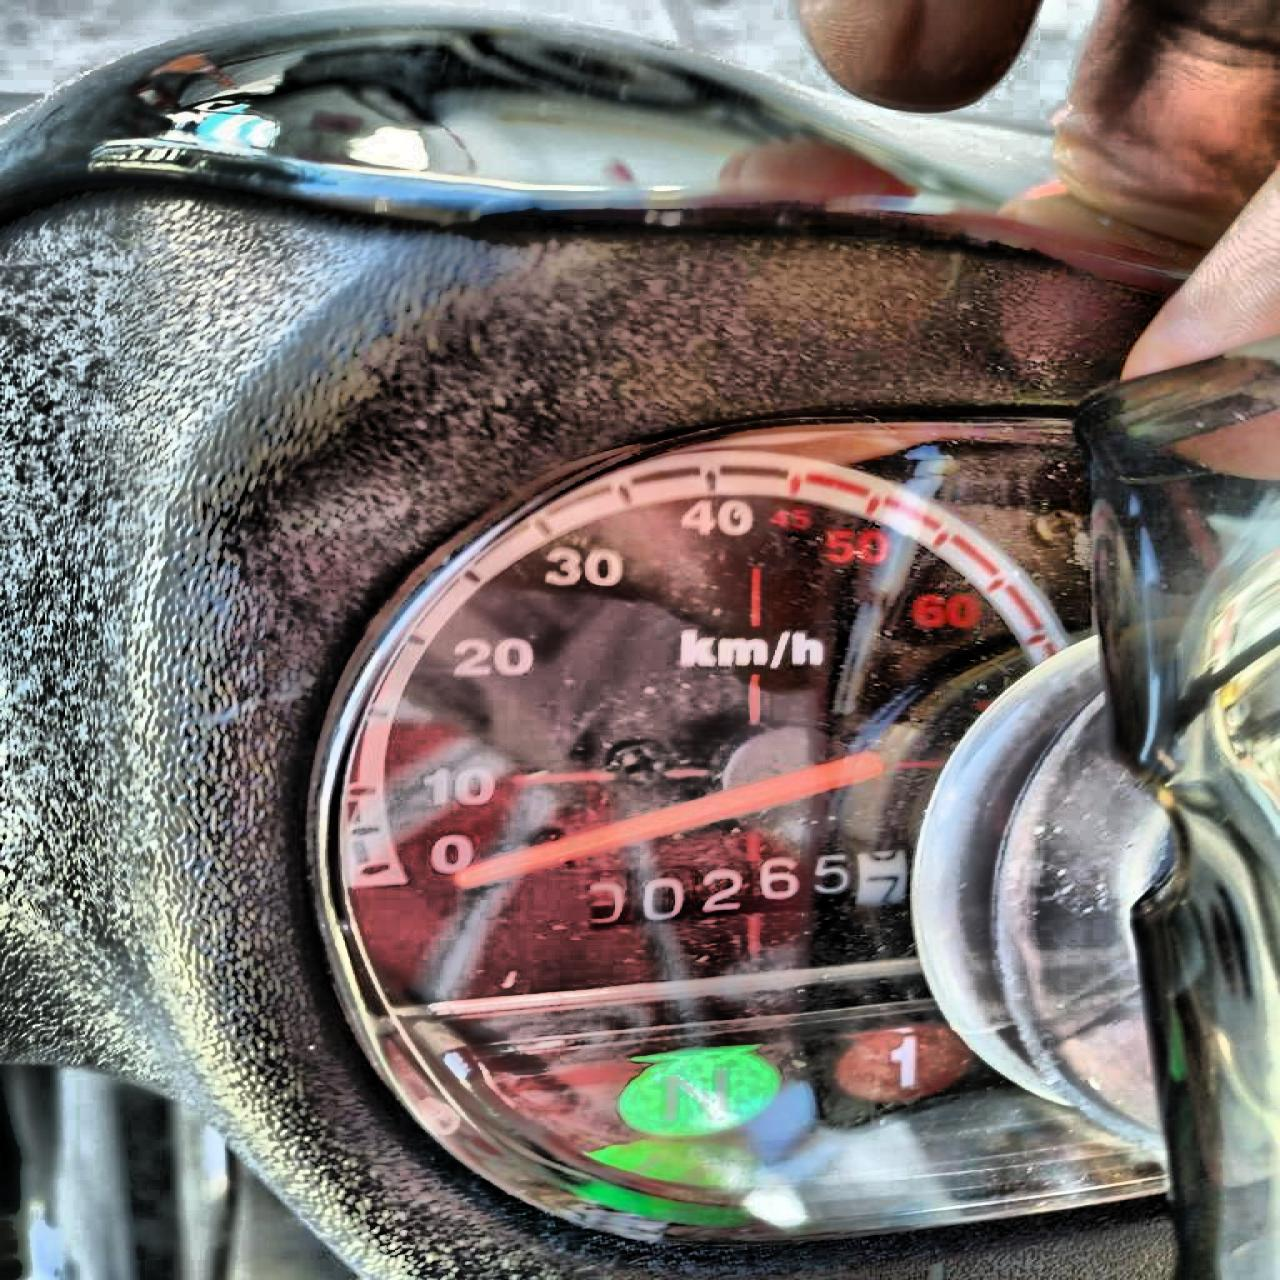0: (640, 876, 683, 920), (581, 881, 624, 925)
2: (699, 869, 742, 912)
5: (812, 852, 849, 893)
6: (757, 856, 798, 899)
7: (865, 873, 898, 906)
odometer: (584, 845, 908, 930)
